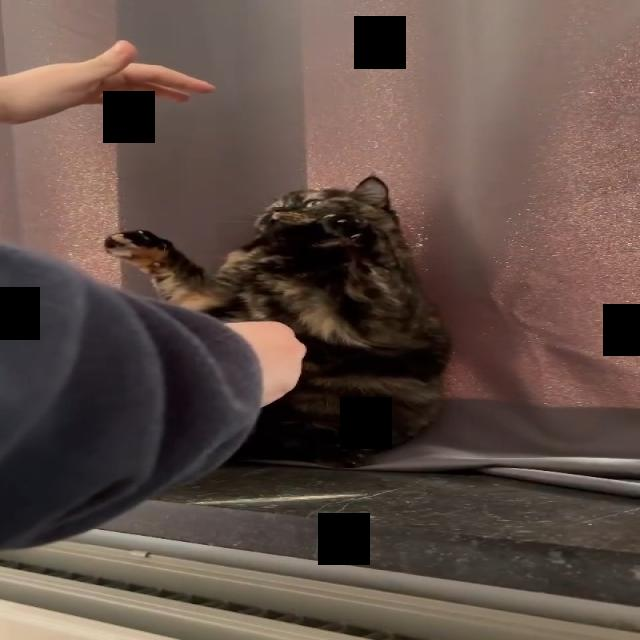authorized: (103, 174, 453, 468)
